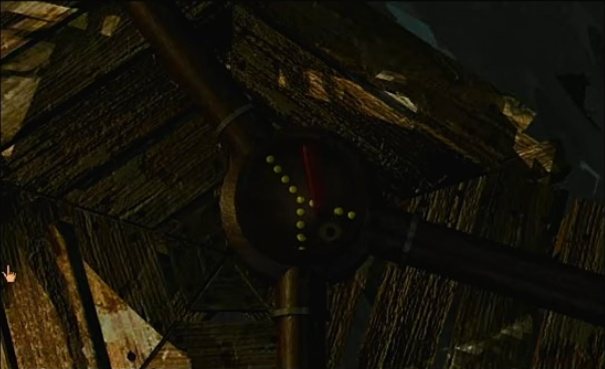Pointer: (0, 262, 20, 284)
